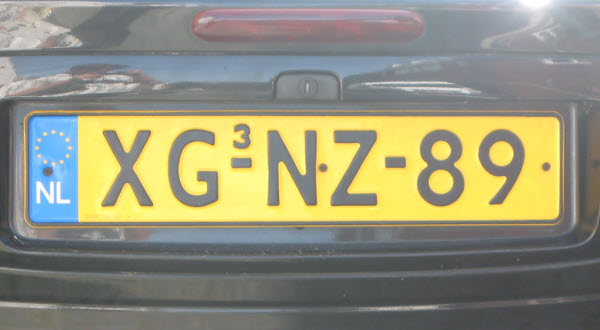license_plate: (23, 111, 565, 227)
